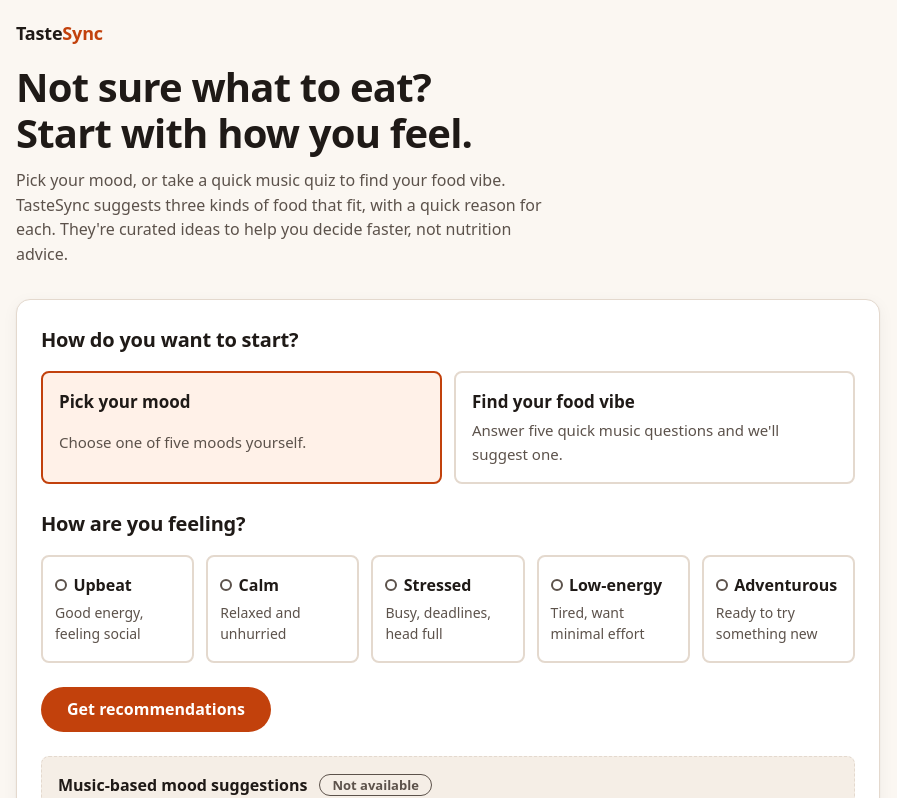
Test case: restaurant suggestions (demo list) › finds restaurants for a recommendation and shows names, addresses, and sources
Click the radio button labelled "Calm" at [283, 609], box [206,555,359,663]
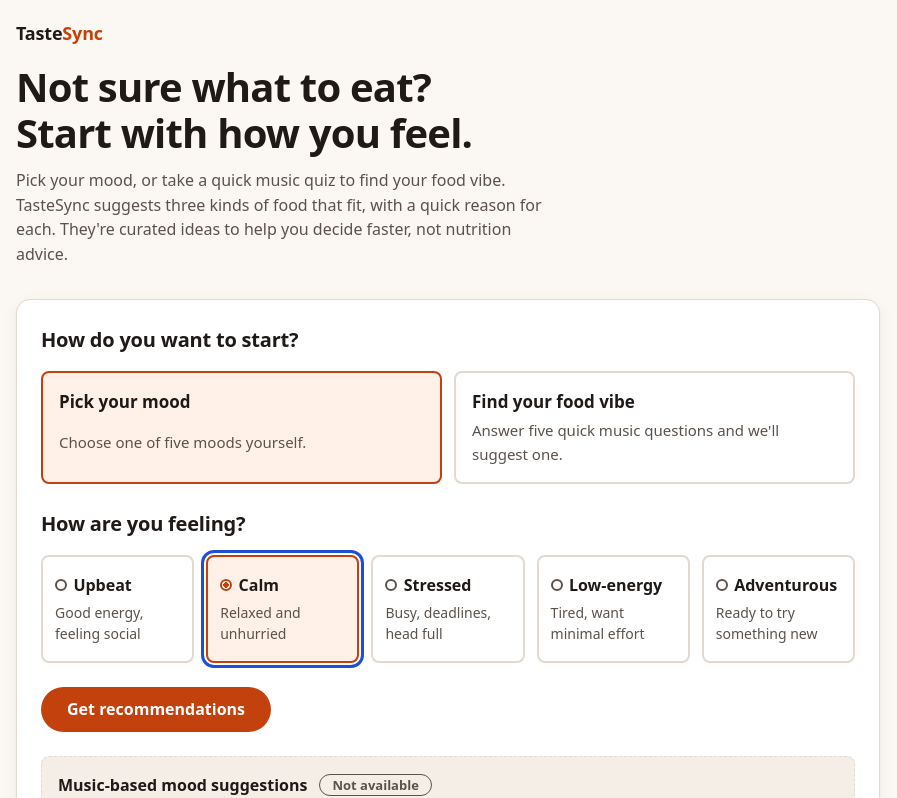
Click the button "Get recommendations" at [156, 710], box [41,687,271,732]
(page scrolled)
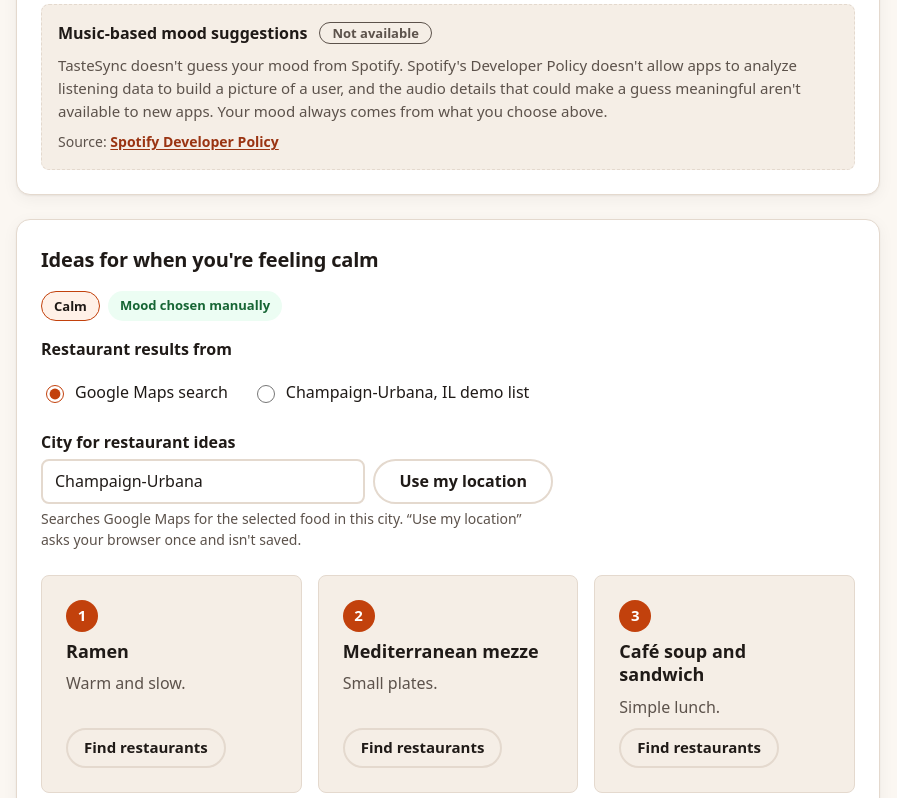
Now the heading "Ideas for when you're feeling calm" is shown, box [41,246,378,273]
Click the radio button labelled "Champaign-Urbana, IL demo list" at [266, 394], box [257,385,275,403]
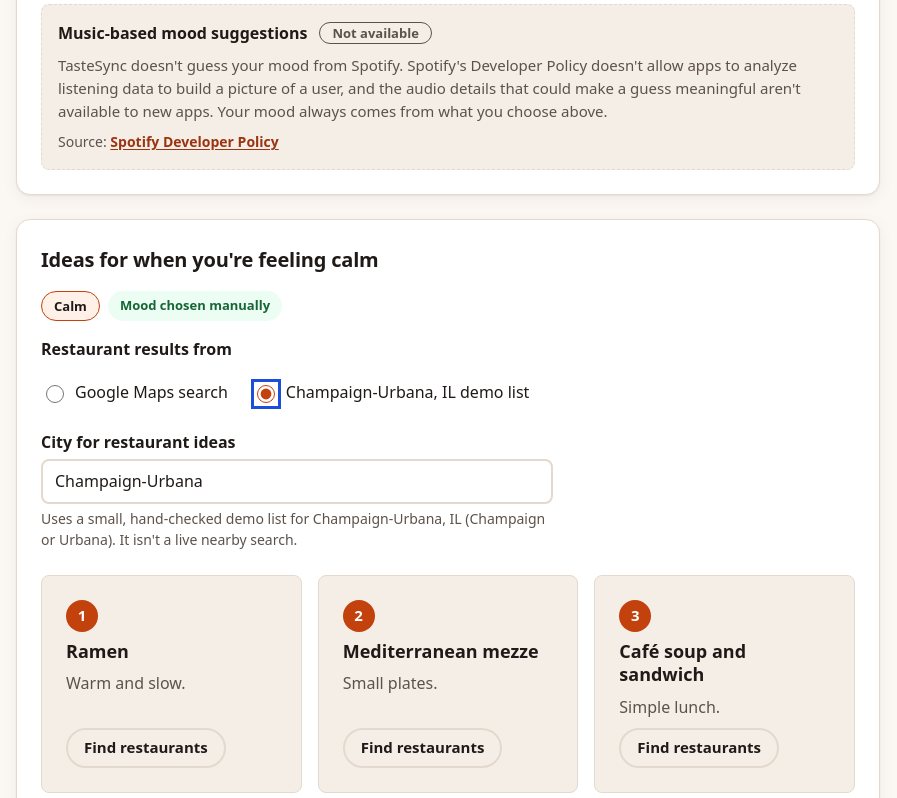
Click the button with aria-label "Find restaurants for Ramen" at [146, 748], box [66,728,226,768]
(page scrolled)
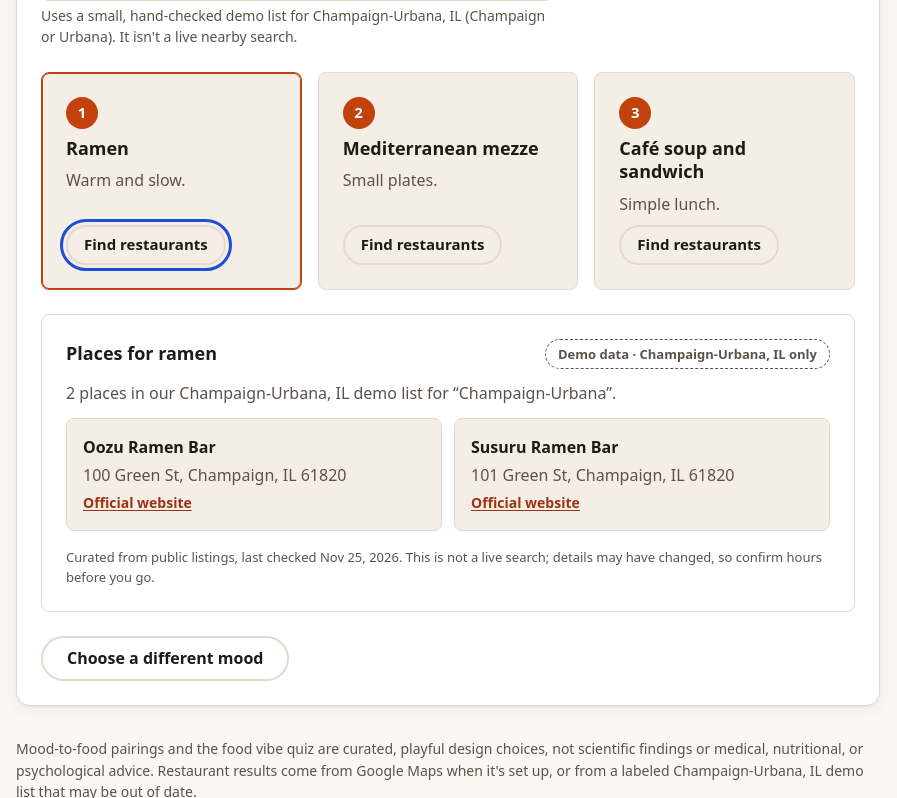
Now the text "Oozu Ramen Bar" is shown, box [83,436,216,458]
Now the list item that starts with "Oozu Ramen Bar" shows "100 Green St, Champaign, IL 61820", box [83,464,346,486]
Now the text "Demo data · Champaign-Urbana, IL only" is shown, box [545,339,830,369]
